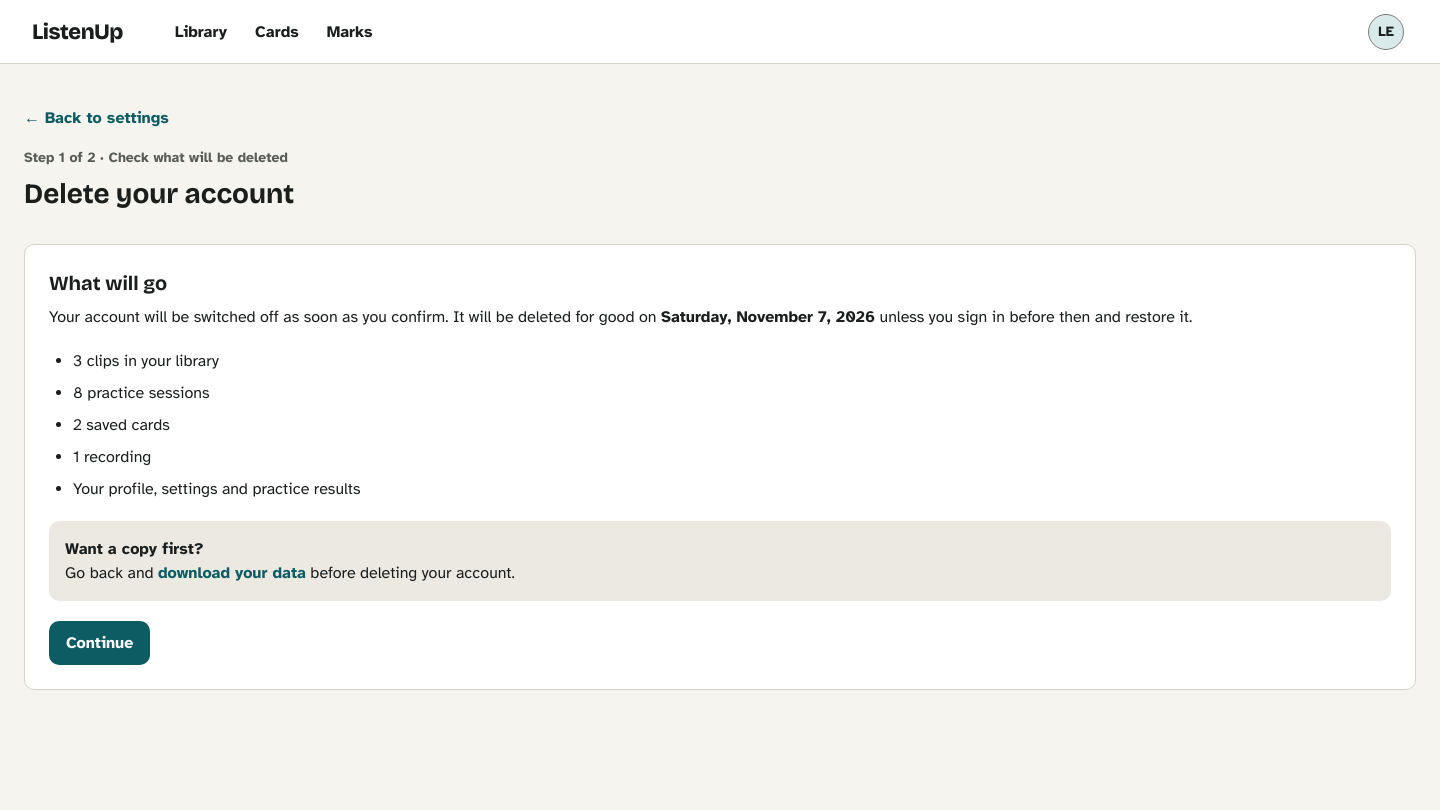
it: a wrong password stays on confirmation and marks the field
Step 1. Click the button "Continue" → (100, 643), box [49,621,150,665]
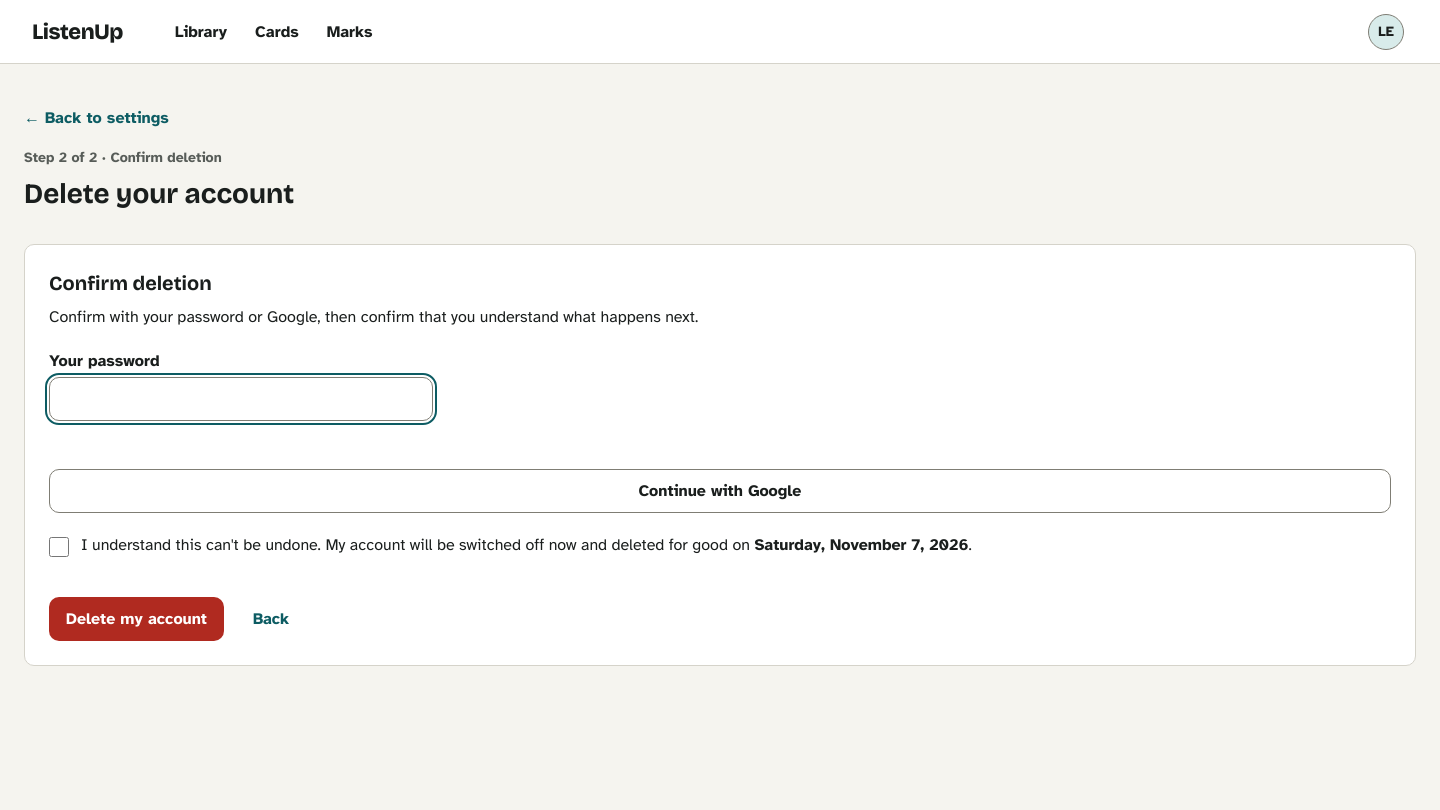
Step 2. Type "not it" into the password field labelled "Your password" → (241, 399), box [49,377,433,421]
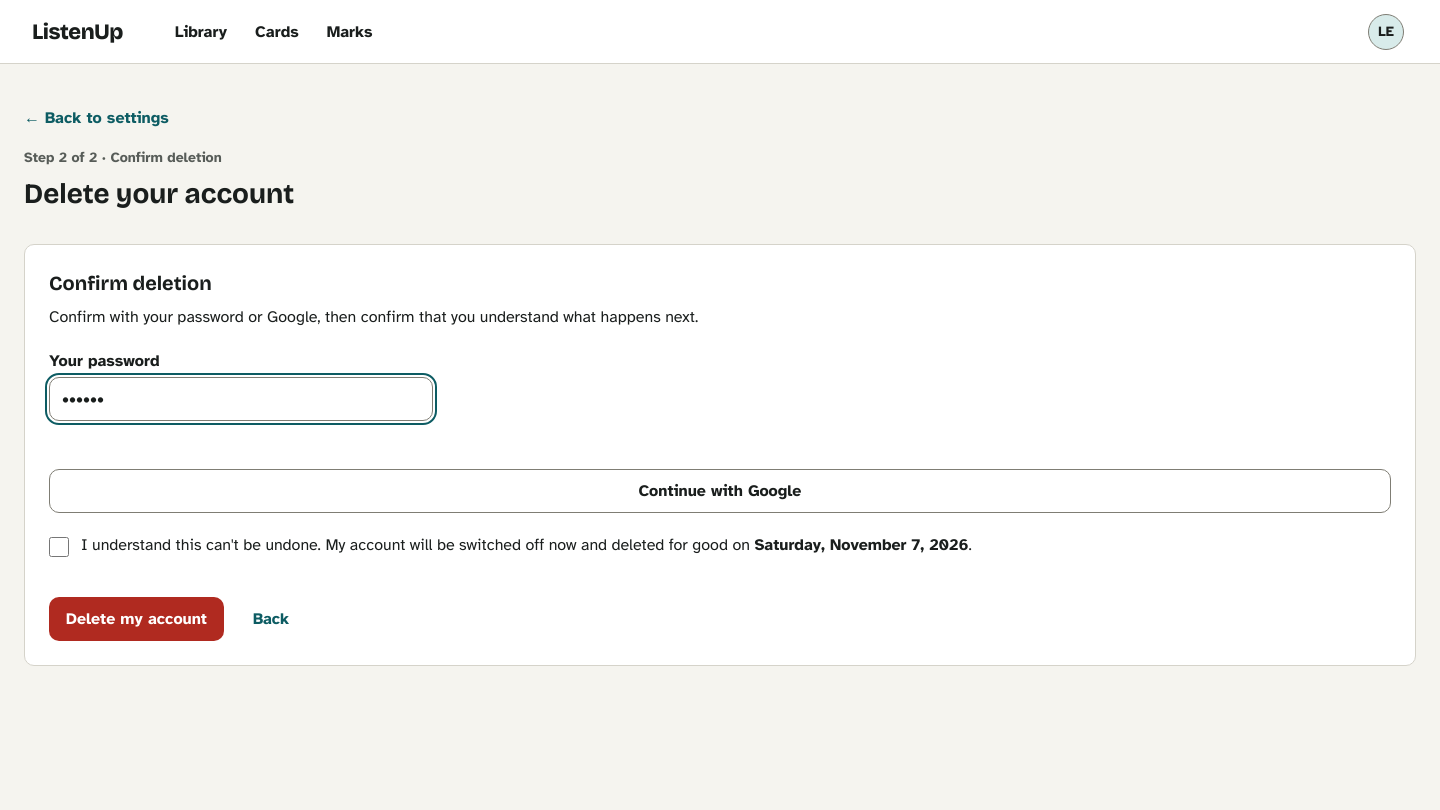
Step 3. Click the checkbox labelled "I understand this can't be undone" → (59, 547), box [49,537,69,557]
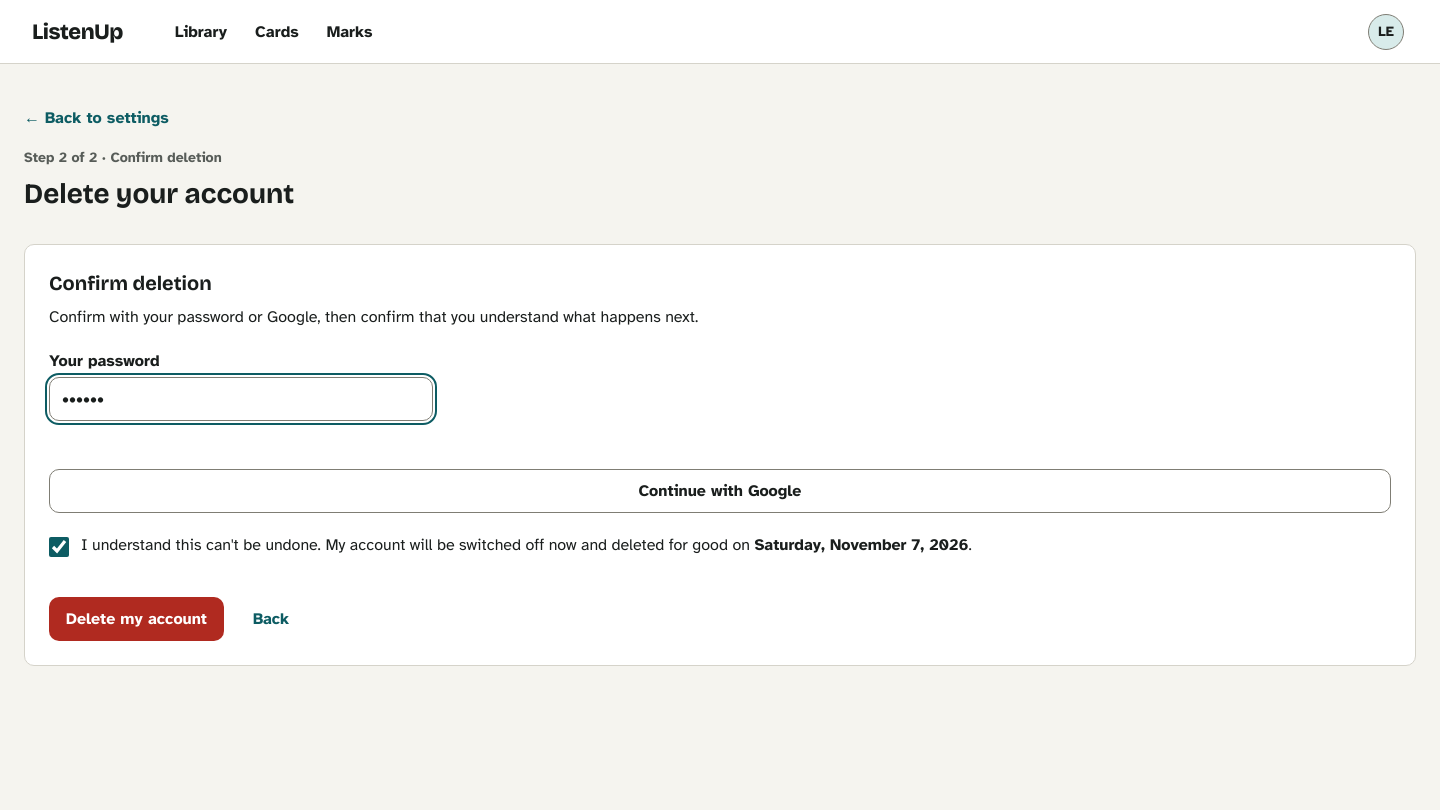
Step 4. Click the button "Delete my account" → (136, 619), box [49,597,224,641]
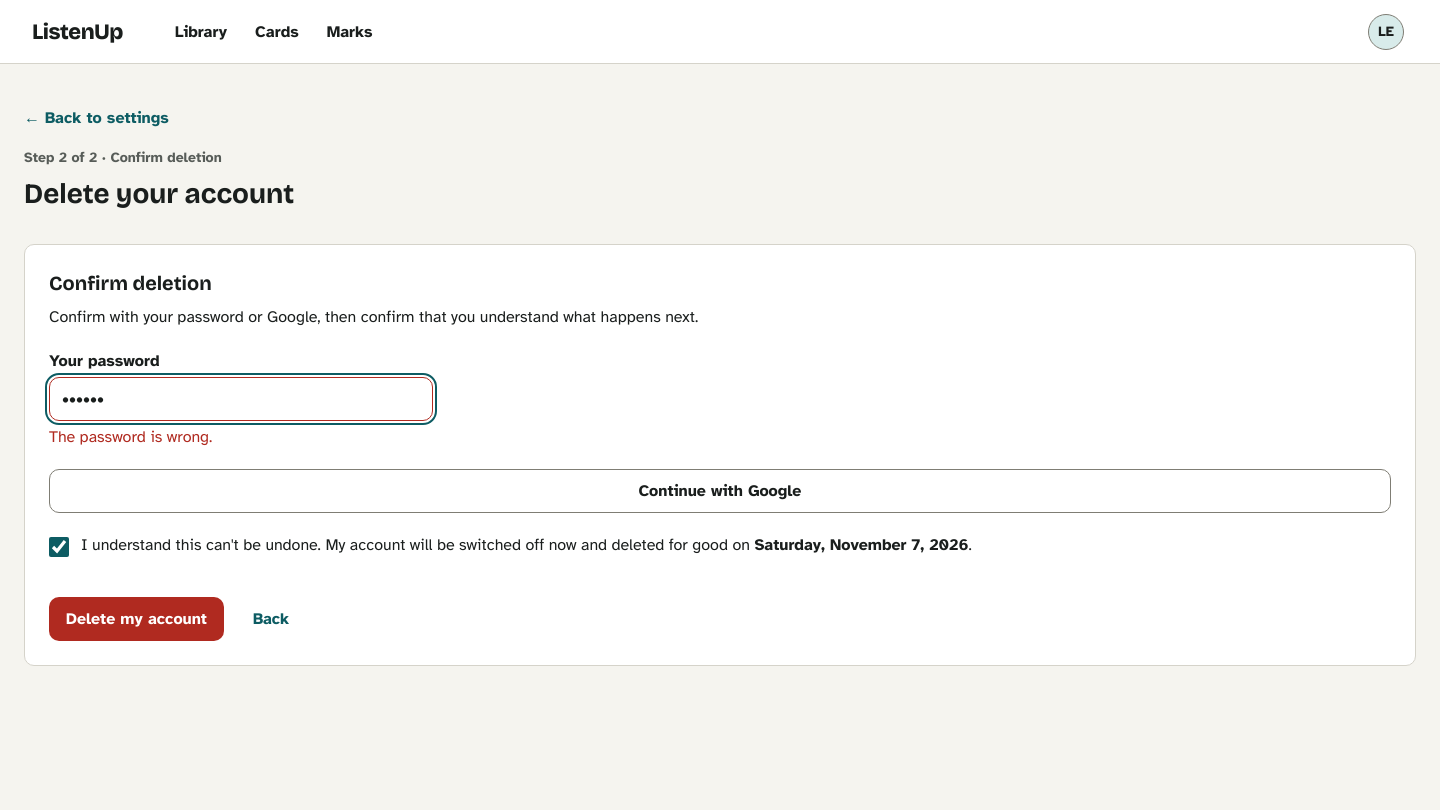
Result: the text "Step 2 of 2 · Confirm deletion" is shown at [24,149,222,166]
Result: the message reads "The password is wrong." at [49,427,212,447]
